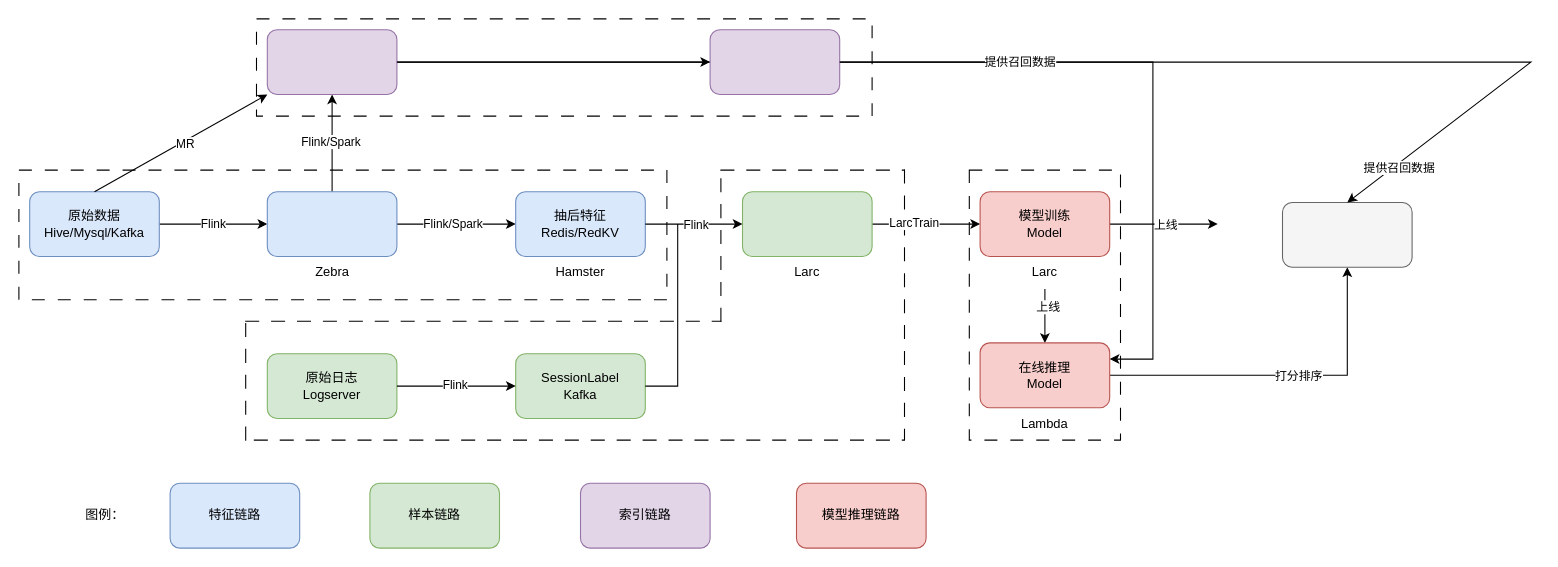
Image size: 1558x567. Some labels were removed from this diagram. The shapes that lost their labels are listed below. From the top down, each one's centre as x and y in pixels, then its label:
At point (331, 61): "索引 RedIndex".
At point (774, 61): "召回引擎 LVE LSE LRE ...".
At point (331, 223): "原始特征 Redis/RedKV".
At point (806, 223): "样本 TFrecord/Parquet".
At point (1346, 234): "业务服务".
